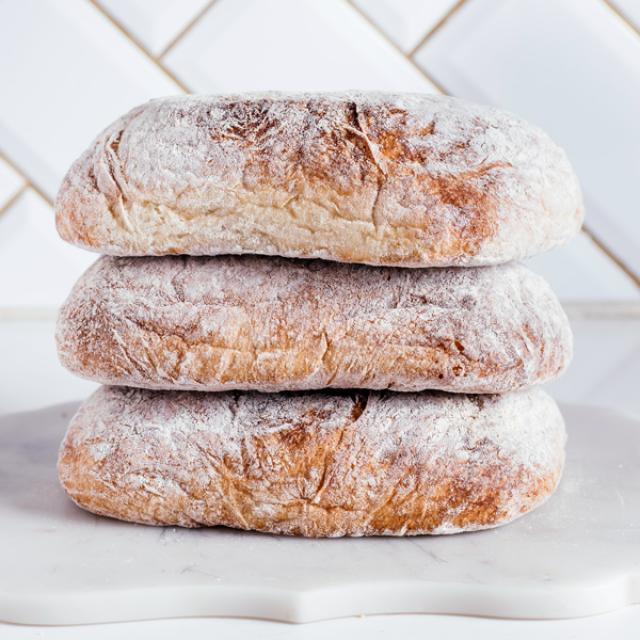Ciabatta: (58, 92, 582, 266), (59, 386, 563, 537), (57, 255, 571, 390)
